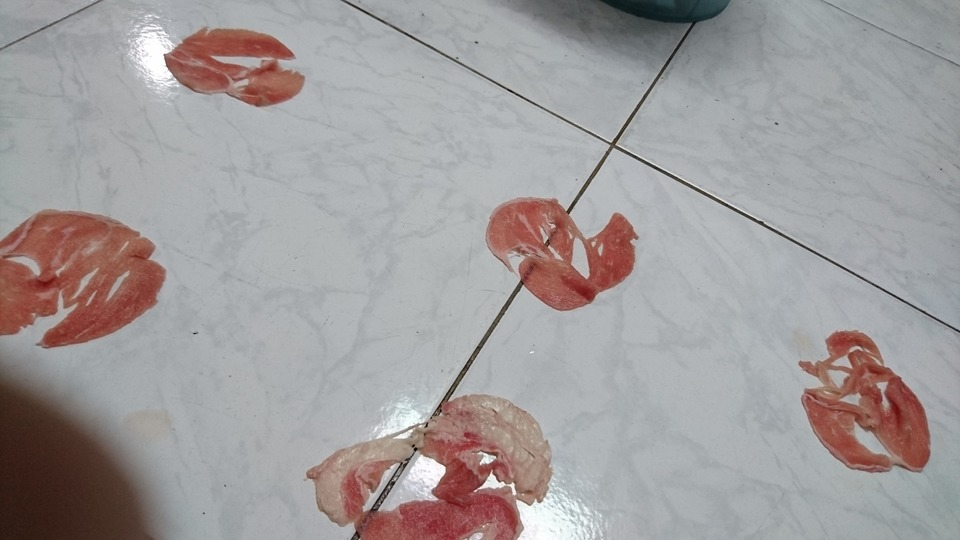restructured meat: (298, 384, 554, 540), (1, 199, 166, 348), (791, 324, 936, 477), (483, 189, 637, 311), (161, 21, 309, 114)
